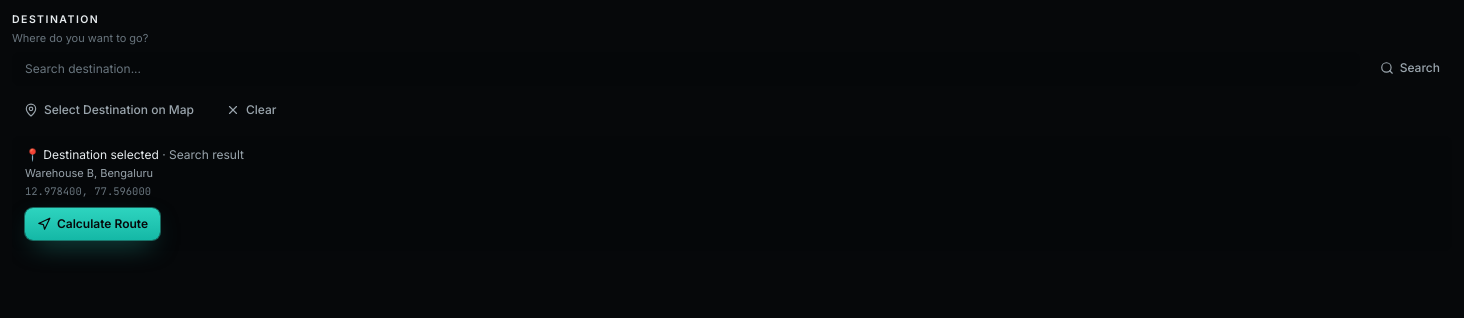
Test: calculating a route › surfaces the backend's own explanation when map data is unavailable
Click the button "Calculate Route": (92, 224) [25,208,160,240]
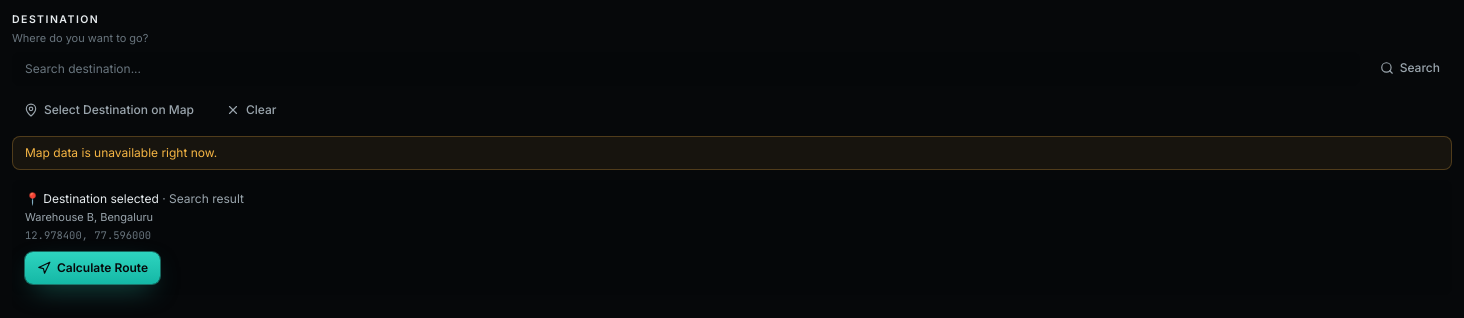
Check: the text "Map data is unavailable right now." is shown, box [12,136,1452,170]
